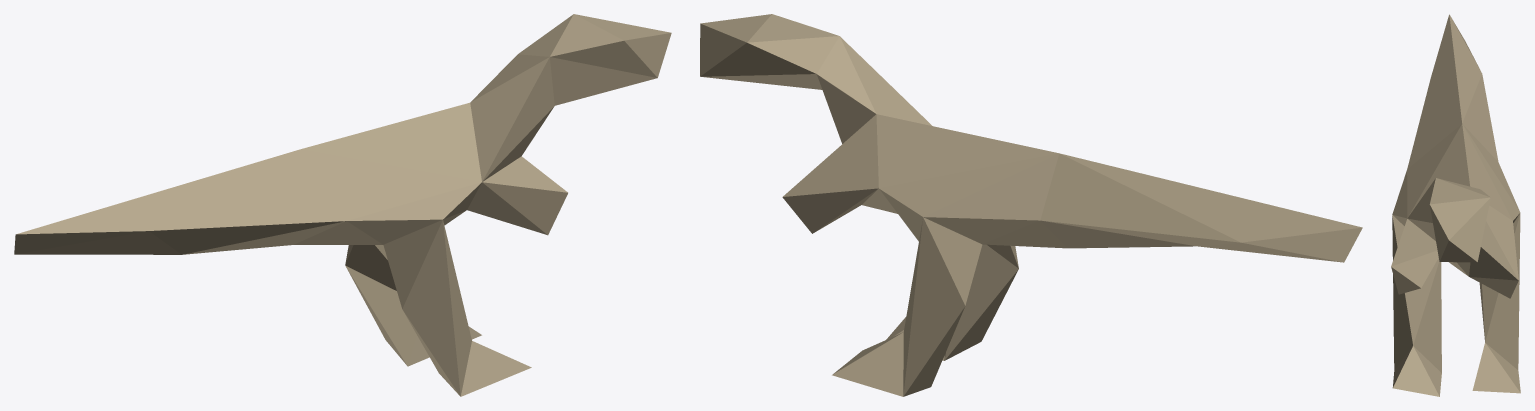
3 renders of one model, left to right at view 1: azimuth 30°, elevation 25°; view 2: azimuth 150°, elevation 25°; view 3: azimuth 270°, elevation 25°, orthographic. The views are drawn at different scales.
Parts seen in each view (by area): view 1: part0; view 2: part0; view 3: part0.
Part boxes in pixels (x1=…): part0: x1=14, y1=14, x2=671, y2=396; part0: x1=700, y1=14, x2=1362, y2=396; part0: x1=1391, y1=14, x2=1520, y2=396.
Bounding box in the file's own units: 5.13 × 2.27 × 1.08.
